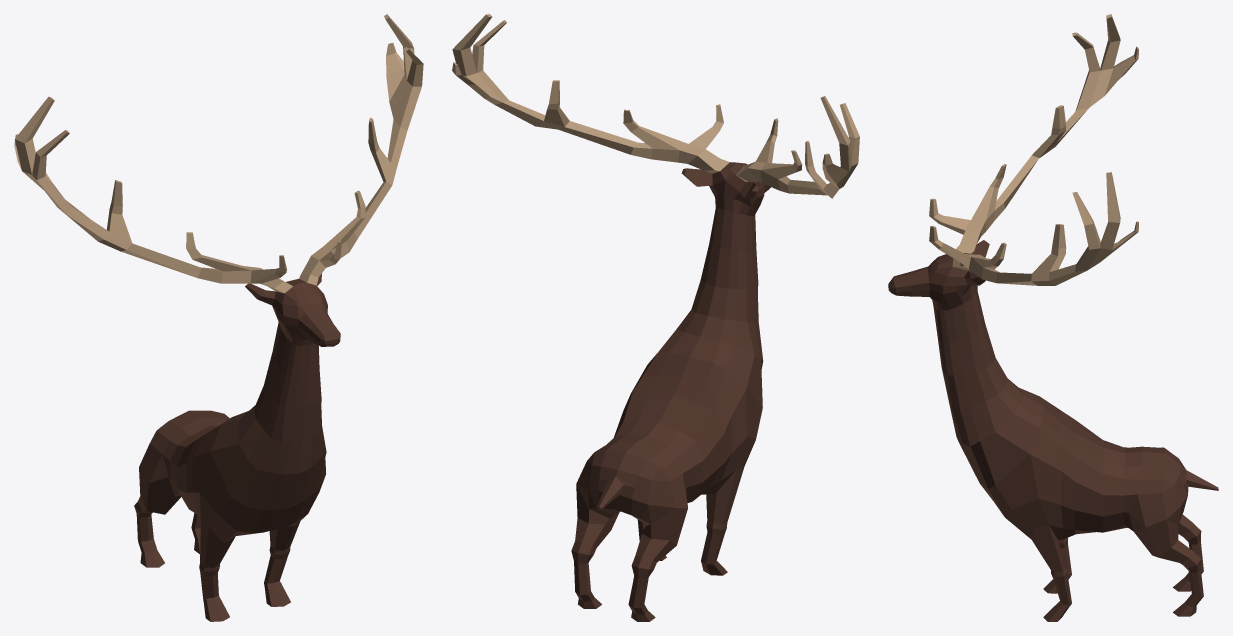
The model's file is deer.fbx.
3 renders of one model, left to right at view 1: azimuth 30°, elevation 25°; view 2: azimuth 150°, elevation 25°; view 3: azimuth 270°, elevation 25°, orthographic. The views are drawn at different scales.
Parts seen in each view (by area): view 1: Cylinder, Cylinder.001; view 2: Cylinder, Cylinder.001; view 3: Cylinder, Cylinder.001.
Boxes of the visible parts, x1=… form: Cylinder: x1=134, y1=273, x2=340, y2=621; Cylinder.001: x1=14, y1=14, x2=423, y2=293; Cylinder: x1=571, y1=162, x2=770, y2=621; Cylinder.001: x1=452, y1=14, x2=859, y2=198; Cylinder: x1=888, y1=240, x2=1218, y2=621; Cylinder.001: x1=929, y1=14, x2=1138, y2=285.
Size of the model in its own units: 279 by 357 by 210.
